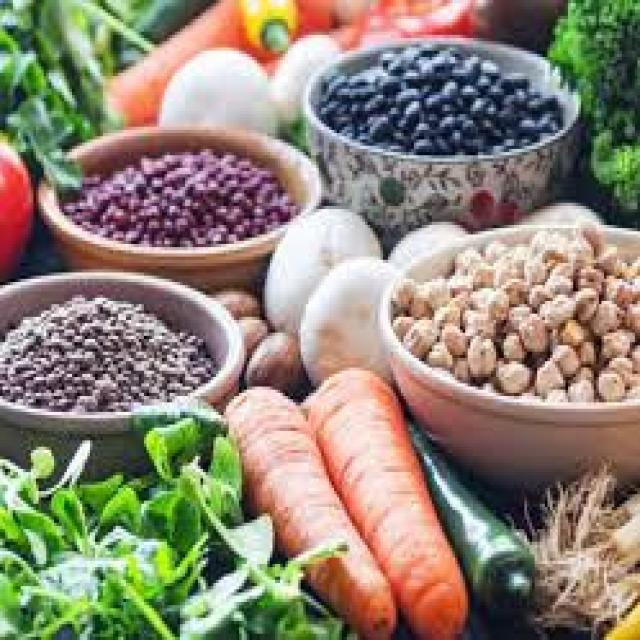organic waste: (300, 364, 462, 637), (224, 380, 393, 637), (0, 0, 149, 187), (72, 472, 234, 637), (316, 44, 558, 152), (406, 415, 532, 618), (62, 142, 293, 238), (520, 462, 638, 634), (0, 434, 90, 637), (548, 0, 638, 200), (0, 291, 213, 370), (260, 203, 380, 326), (298, 254, 393, 380), (154, 44, 275, 133), (195, 548, 301, 637), (0, 361, 170, 406), (264, 29, 336, 117), (190, 485, 270, 564), (8, 101, 77, 187), (0, 139, 31, 282), (178, 589, 262, 637), (386, 215, 465, 263), (242, 326, 298, 393), (141, 482, 193, 548), (0, 0, 59, 54), (142, 418, 196, 475), (237, 0, 296, 51), (92, 479, 144, 529), (180, 570, 249, 605), (206, 434, 242, 497), (172, 390, 224, 431), (524, 196, 599, 218), (77, 469, 118, 507), (488, 244, 524, 285), (213, 285, 254, 320), (514, 310, 545, 355), (403, 314, 437, 355), (602, 602, 638, 637), (468, 282, 501, 320), (491, 355, 529, 386), (586, 294, 617, 332), (465, 332, 496, 370), (571, 282, 596, 326), (236, 311, 265, 348), (550, 339, 578, 377), (529, 355, 558, 390), (419, 272, 447, 308), (404, 276, 429, 316), (573, 256, 599, 292), (596, 244, 620, 282), (596, 330, 625, 361), (573, 219, 602, 250), (537, 298, 566, 326), (578, 330, 599, 368), (504, 298, 529, 329), (440, 320, 462, 355), (391, 270, 411, 308), (537, 228, 563, 257), (445, 266, 473, 292), (604, 273, 627, 304), (594, 371, 622, 396), (522, 257, 547, 285), (498, 326, 522, 355), (560, 374, 591, 396), (540, 272, 570, 294), (452, 244, 478, 269), (463, 307, 488, 333), (566, 231, 588, 260), (502, 276, 524, 304), (620, 298, 638, 332), (604, 355, 627, 380), (468, 260, 491, 285), (484, 234, 506, 260), (427, 342, 447, 368), (524, 228, 542, 254), (524, 279, 545, 301), (571, 362, 591, 384), (560, 320, 578, 339), (548, 253, 568, 270), (624, 276, 638, 294), (542, 387, 560, 399), (624, 257, 638, 269)
